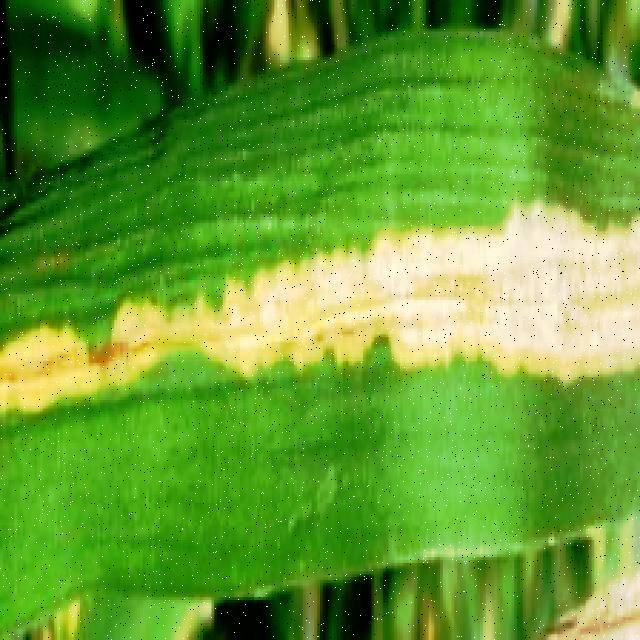unhealth: (1, 31, 640, 640)
